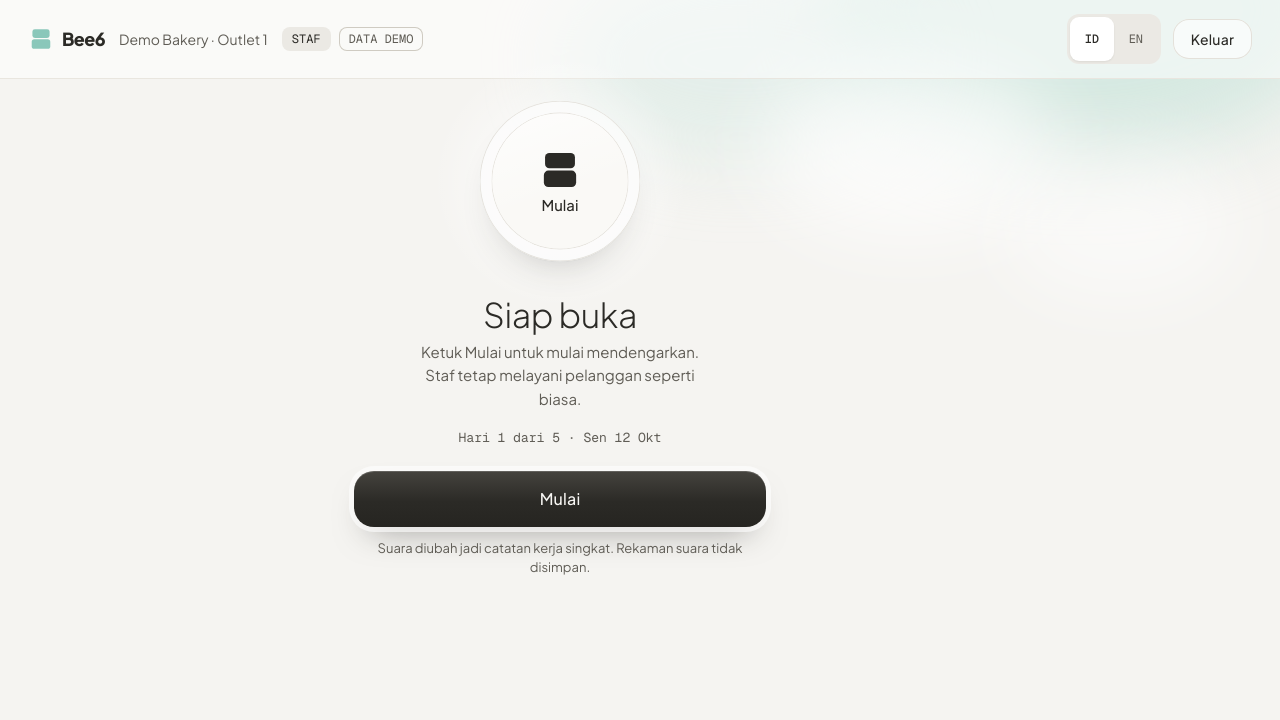
Test: capture page: the End and Cancel panels in the sandbox (R-18) › ID sandbox, End locked: the Bahasa label and the Bahasa day line
Step 1. Click the button "Mulai" → {"x": 560, "y": 499}, box [354,471,766,527]
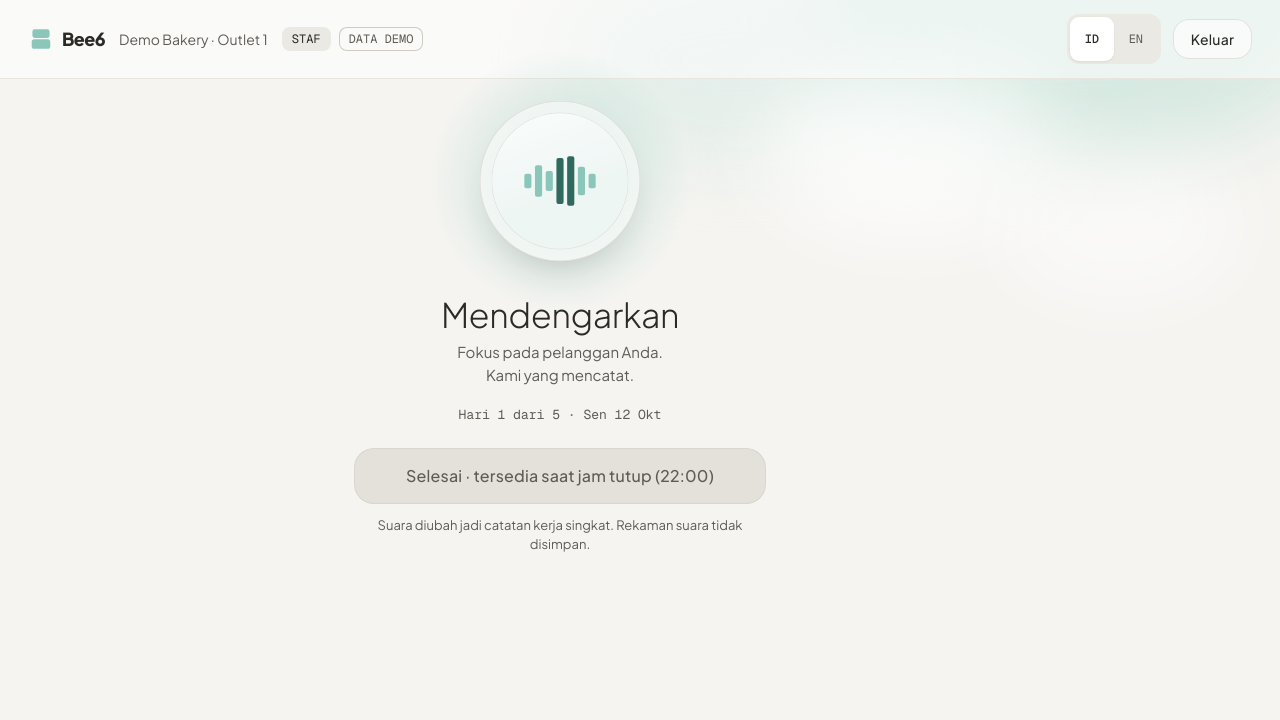
Check: the text "Hari 1 dari 5 · Sen 12 Okt" is shown, box [459,406,661,423]
Check: the text "Mulai" is gone
Check: the button "Selesai · tersedia saat jam tutup (22:00)" is disabled, box [354,448,766,504]
